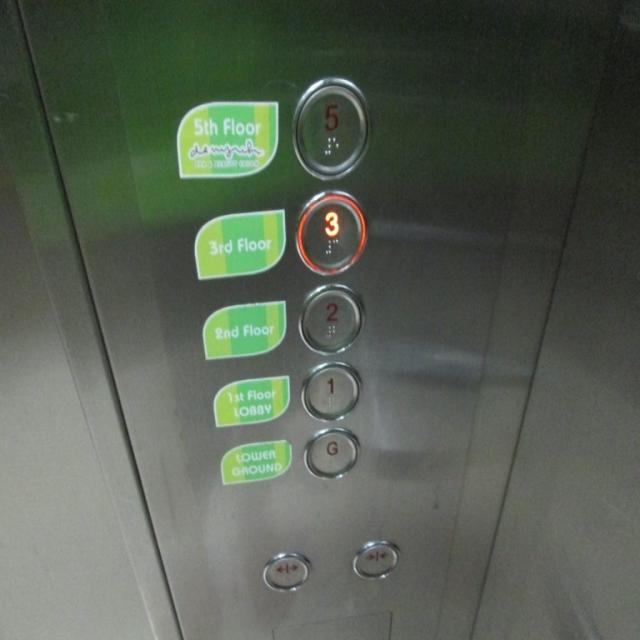1: (297, 358, 365, 422)
2: (294, 280, 369, 357)
3: (293, 183, 369, 279)
5: (292, 75, 371, 181)
G: (300, 422, 362, 481)
close: (349, 536, 403, 584)
open: (260, 547, 316, 595)
